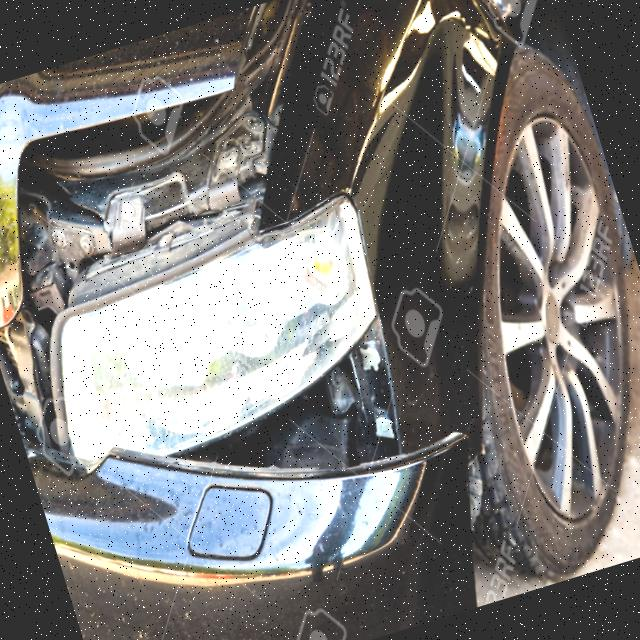Head Light: (0, 15, 467, 640)
